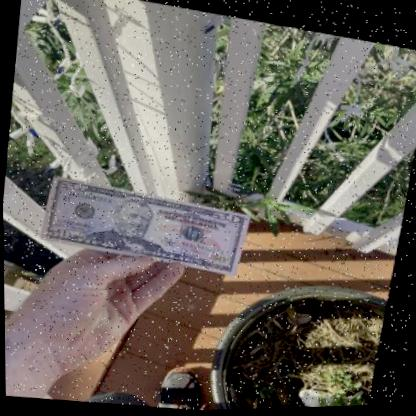fifty-front: (42, 170, 256, 278)
